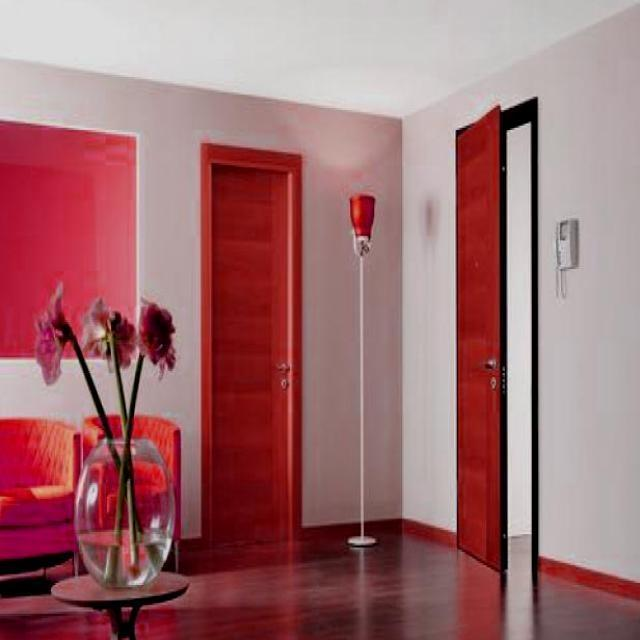door: (202, 144, 300, 548), (450, 95, 508, 582)
